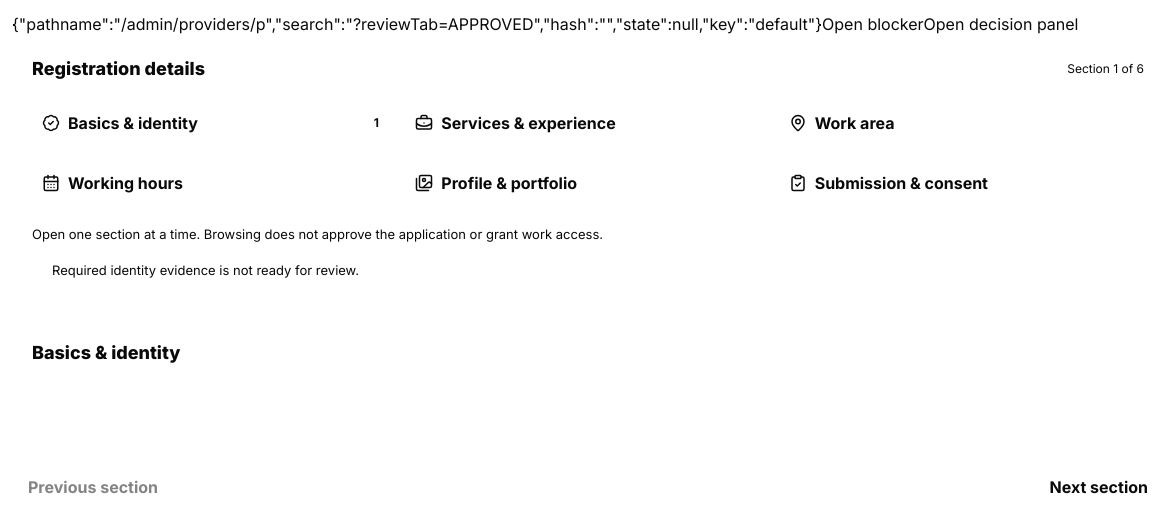
Tabbed Admin review presentation › handles invalid URL input and keeps server issue counts separate from completion
The image size is (1176, 514).
Press the mouse on the tab "Submission & consent" at (961, 183), box [779, 157, 1144, 209]
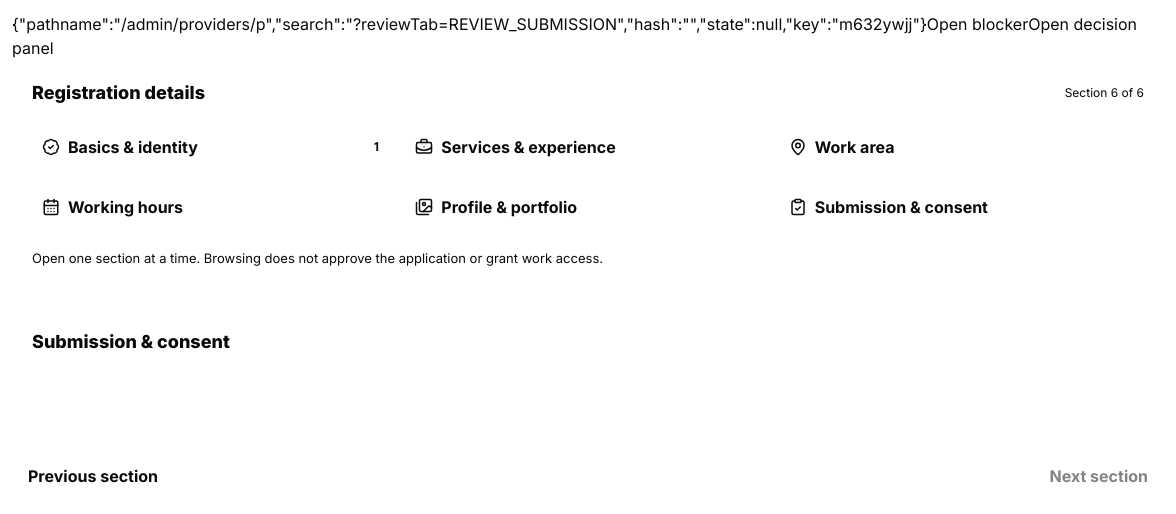
Result: the button "Next section" is disabled at [1034, 454, 1164, 498]
